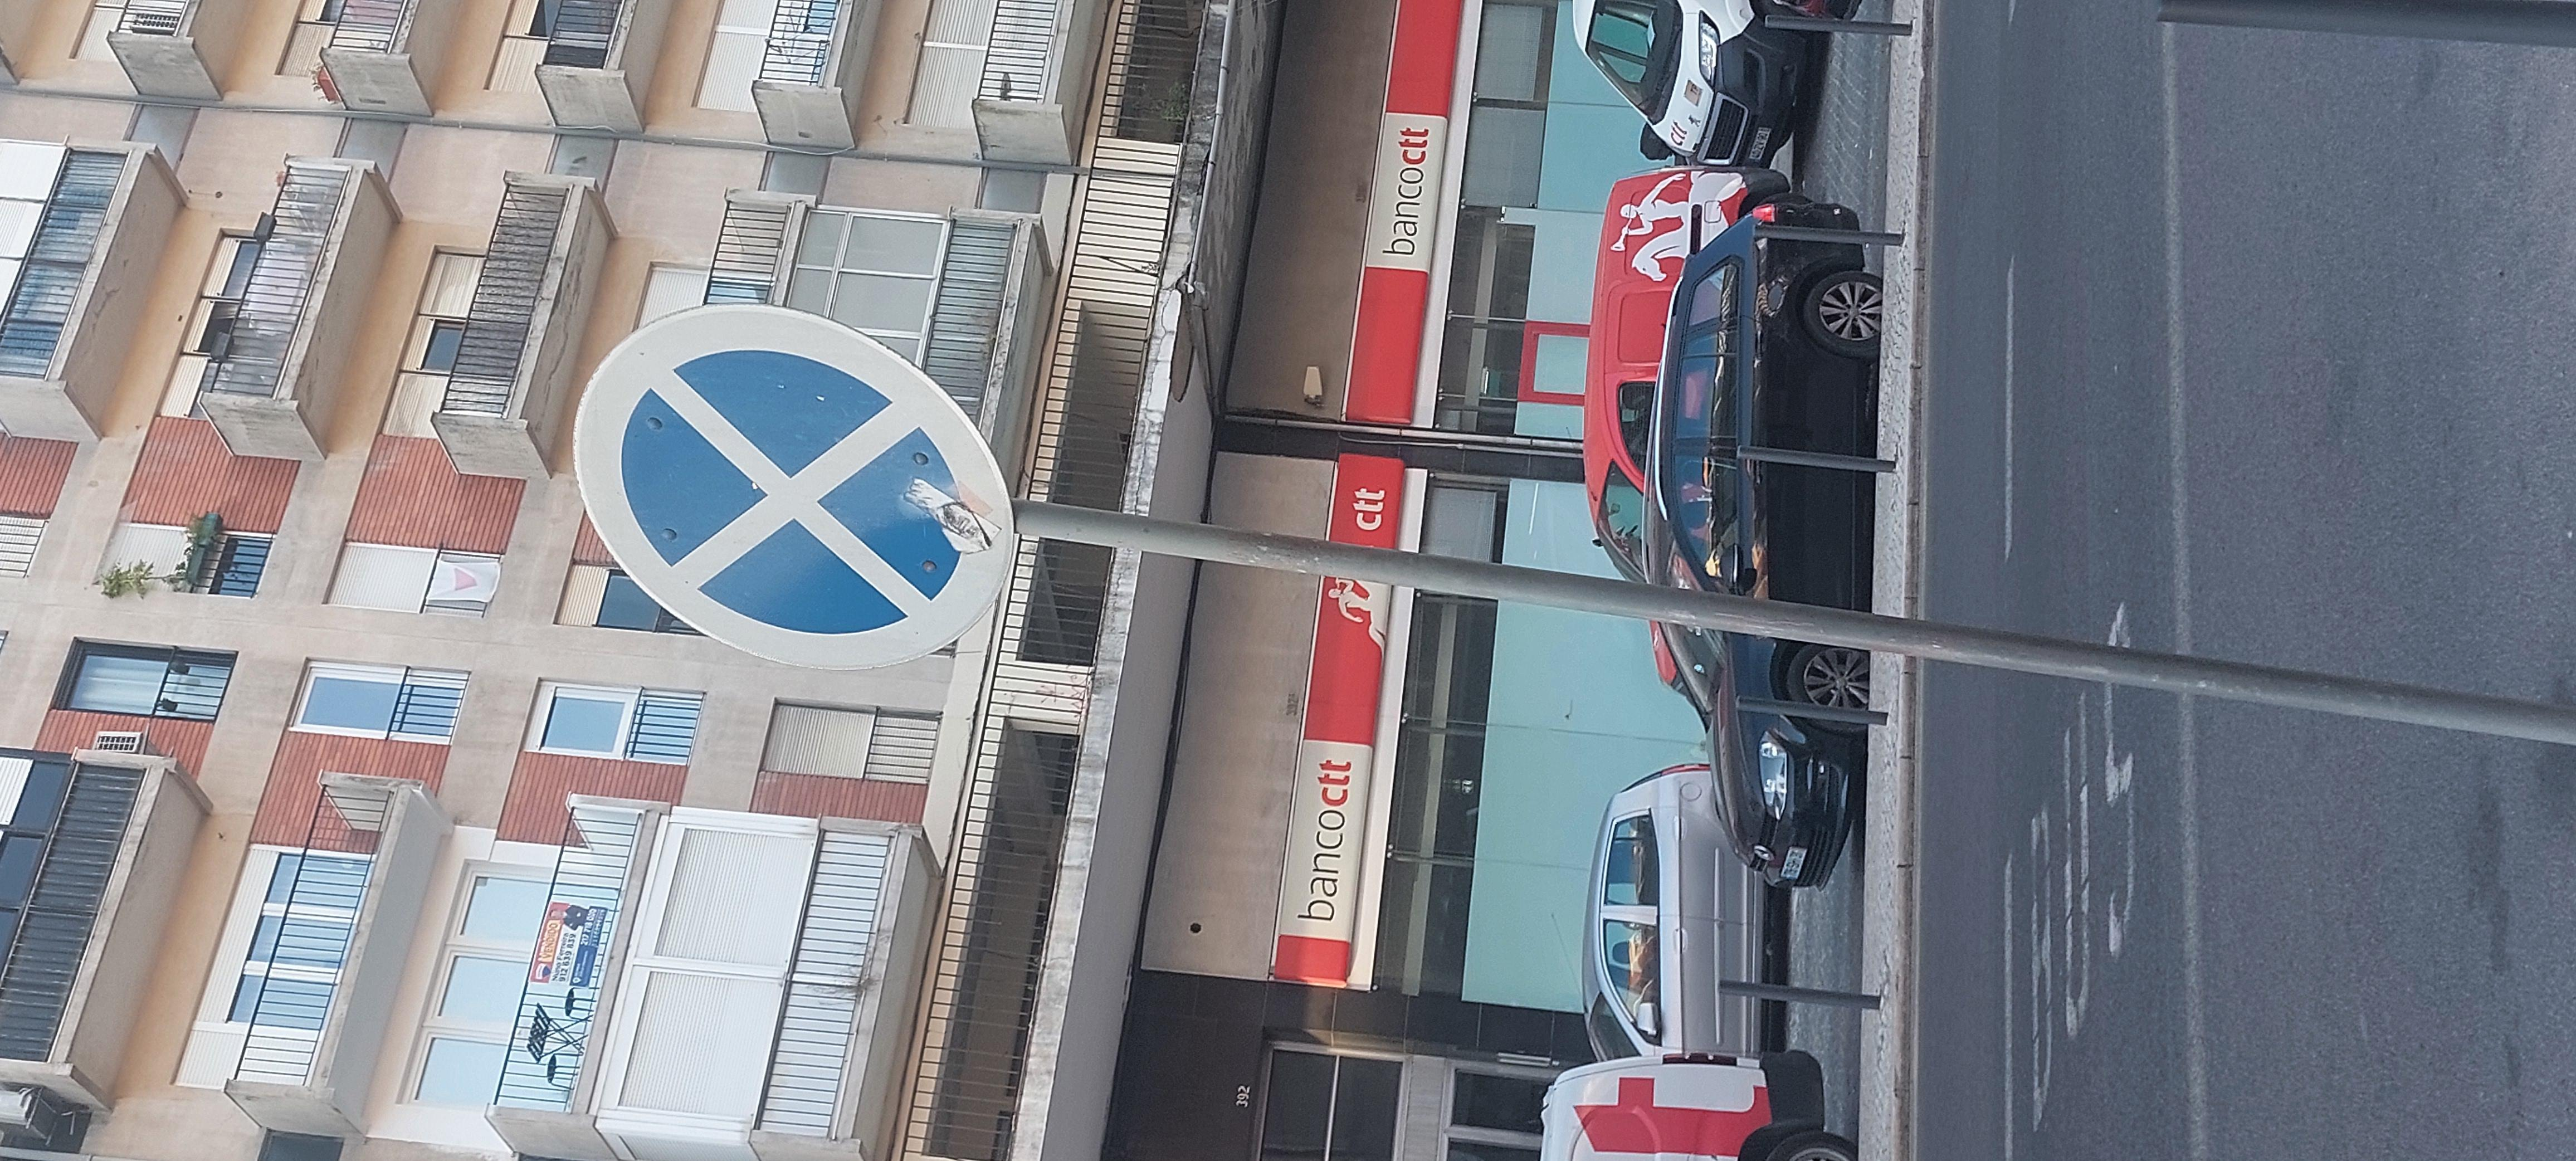paragem e estacionamento proibido: (999, 241, 1985, 480)
